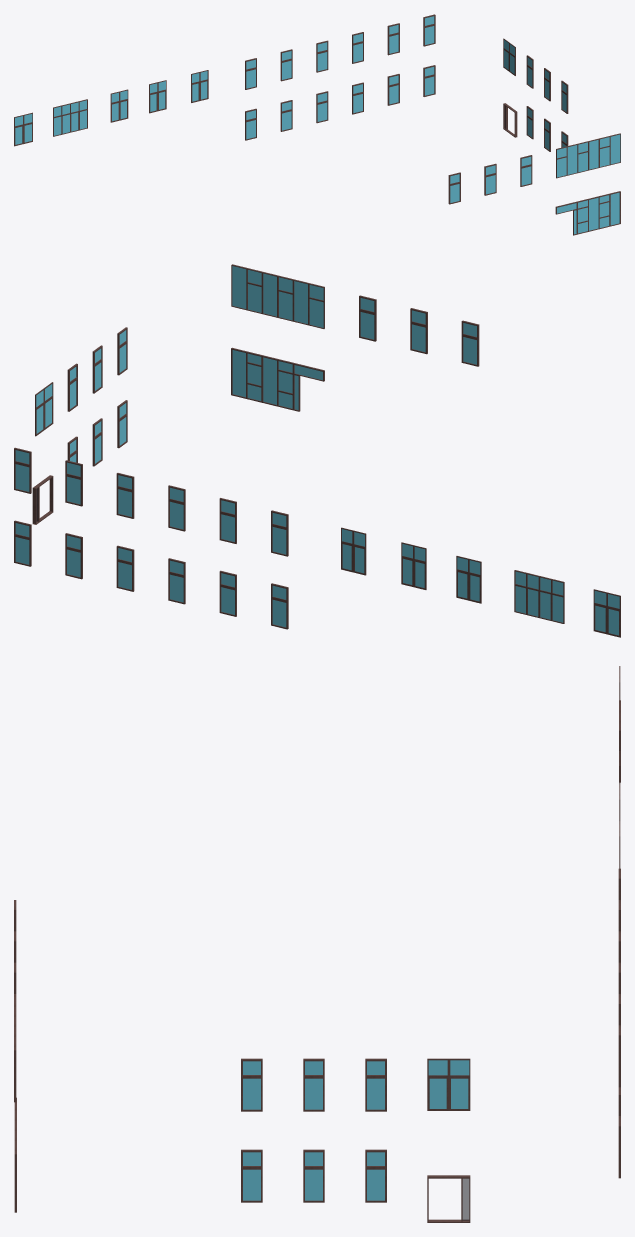
The model's file is C3_Windows.FBX.
3 renders of one model, top to bottom at view 1: azimuth 30°, elevation 25°; view 2: azimuth 150°, elevation 25°; view 3: azimuth 270°, elevation 25°, orthographic. The views are drawn at different scales.
Parts seen in each view (by area): view 1: C3_Window027, C3_Window028, C3_Window023, C3_Window021, C3_Window022, C3_Window020, C3_Window019, C3_Window007, C3_Window008, C3_Window010, C3_Window011, C3_Window013 (+11 smaller); view 2: C3_Window027, C3_Window028, C3_Window023, C3_Window022, C3_Window020, C3_Window021, C3_Window019, C3_Window026, C3_Window006, C3_Window009, C3_Window015, C3_Window008 (+12 smaller); view 3: C3_Window006 (×2), C3_Window003, C3_Window001, C3_Window002, C3_Window004, C3_Window005, C3_Window029.
Boxes of the visible parts, bbox=[...] form: C3_Window027: bbox=[556, 133, 620, 178]; C3_Window028: bbox=[555, 191, 620, 235]; C3_Window023: bbox=[53, 99, 87, 136]; C3_Window021: bbox=[110, 89, 128, 122]; C3_Window022: bbox=[14, 112, 32, 146]; C3_Window020: bbox=[149, 80, 166, 113]; C3_Window019: bbox=[191, 70, 208, 102]; C3_Window007: bbox=[423, 14, 435, 46]; C3_Window008: bbox=[387, 23, 399, 55]; C3_Window010: bbox=[316, 40, 328, 72]; C3_Window011: bbox=[280, 49, 292, 81]; C3_Window013: bbox=[423, 65, 435, 96]; C3_Window027: bbox=[231, 264, 324, 328]; C3_Window028: bbox=[231, 347, 324, 411]; C3_Window023: bbox=[514, 570, 564, 623]; C3_Window022: bbox=[593, 589, 620, 637]; C3_Window020: bbox=[401, 542, 426, 589]; C3_Window021: bbox=[456, 556, 481, 603]; C3_Window019: bbox=[341, 527, 366, 575]; C3_Window026: bbox=[461, 320, 479, 366]; C3_Window006: bbox=[35, 382, 53, 436]; C3_Window009: bbox=[116, 473, 134, 518]; C3_Window015: bbox=[116, 545, 134, 591]; C3_Window008: bbox=[65, 460, 82, 506]; C3_Window006 (×2): bbox=[365, 1058, 470, 1202]; C3_Window003: bbox=[241, 1058, 262, 1111]; C3_Window001: bbox=[303, 1058, 324, 1111]; C3_Window002: bbox=[365, 1058, 386, 1111]; C3_Window004: bbox=[241, 1149, 262, 1202]; C3_Window005: bbox=[303, 1149, 324, 1202]; C3_Window029: bbox=[427, 1175, 470, 1222].
Bounding box in the file's own units: 3907 × 750 × 2541.
